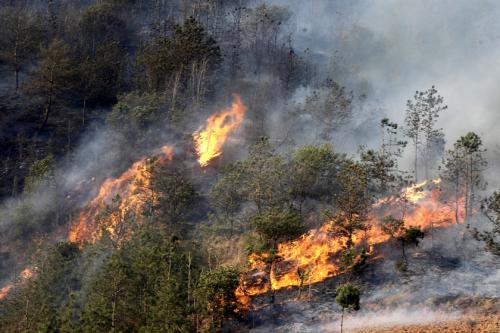fire: (340, 190, 468, 243), (76, 180, 160, 241), (246, 233, 340, 285), (190, 108, 241, 163)
smoke: (261, 32, 495, 161), (325, 249, 500, 328), (66, 123, 130, 178)
